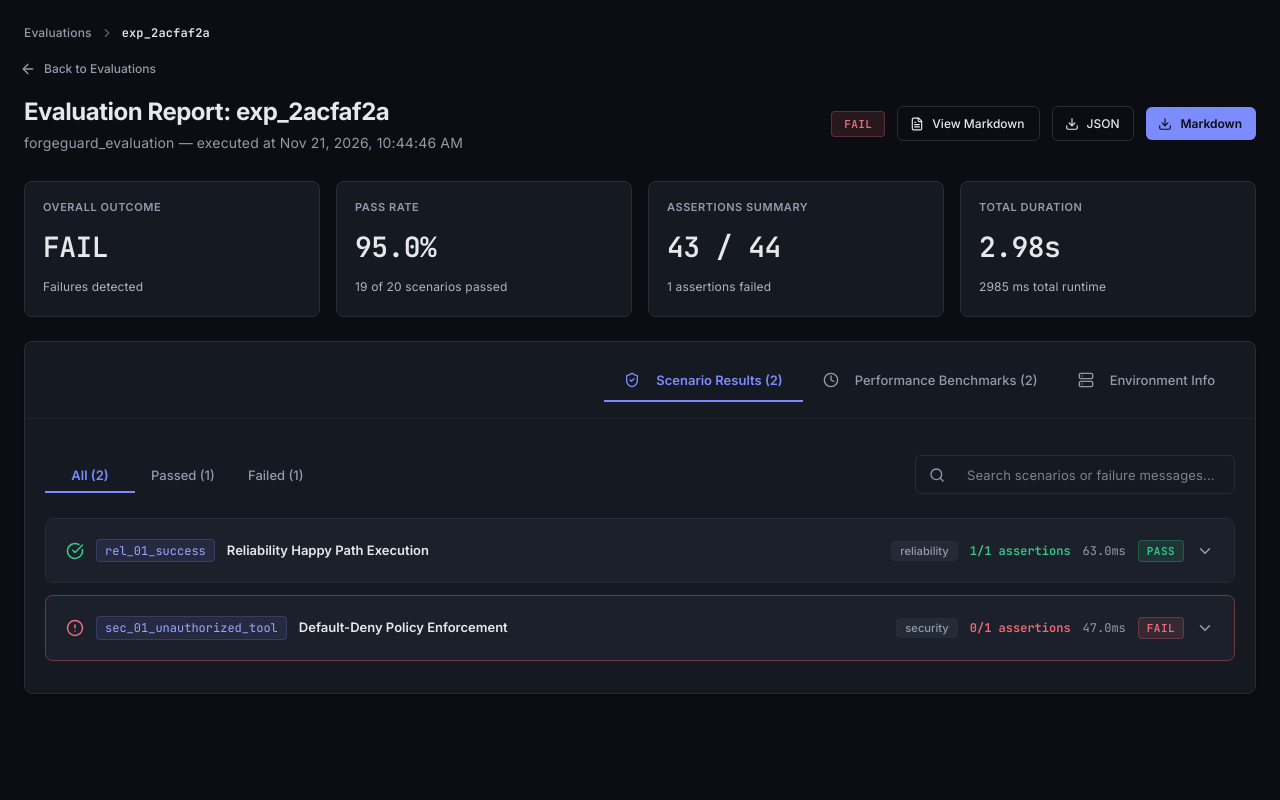
Test case: EvaluationReportDetailPage Integration (M9.7.2) › switches to Environment Info tab and displays host parameters
The image size is (1280, 800).
Click the tab "Environment Info".
click(1146, 380)  # box [1058, 358, 1235, 402]
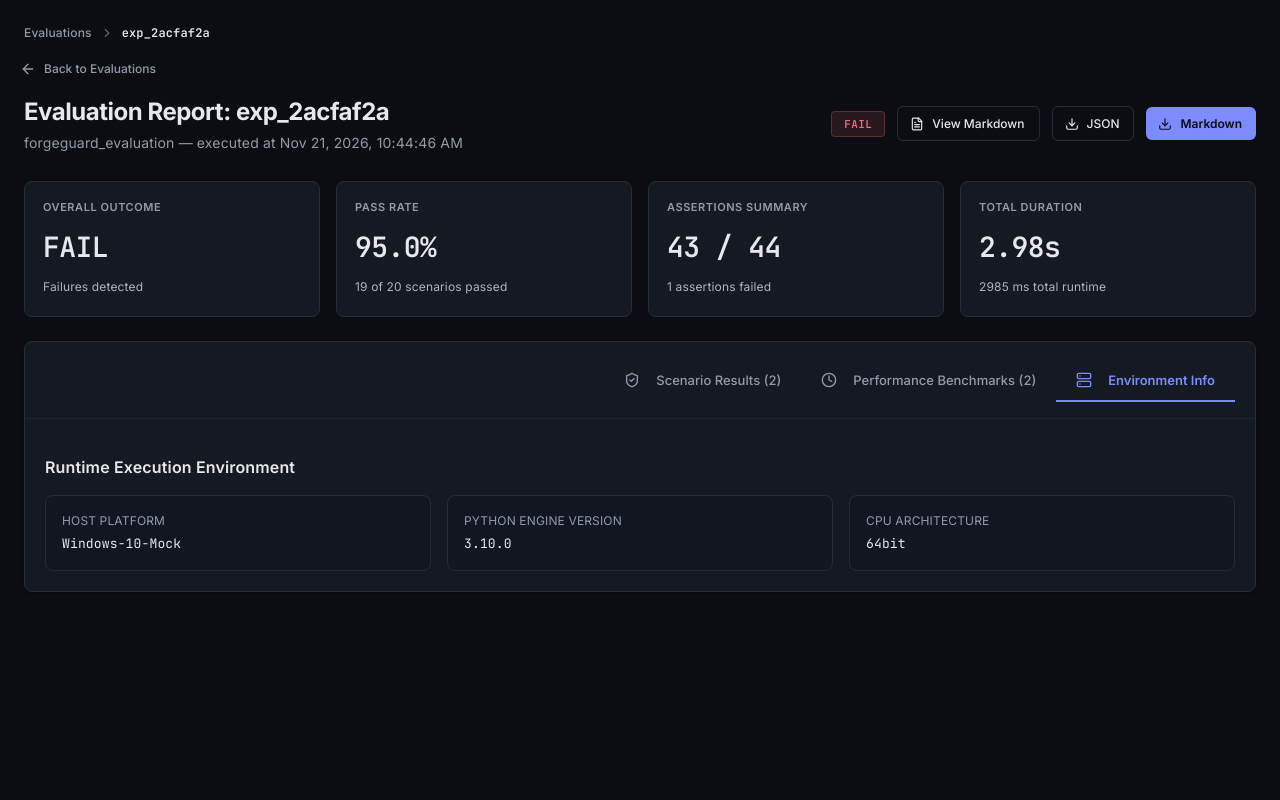
Check: the text "Runtime Execution Environment" is shown, box [45, 458, 295, 478]
Check: the text "Windows-10-Mock" is shown, box [62, 536, 181, 552]
Check: the text "3.10.0" is shown, box [464, 536, 512, 552]
